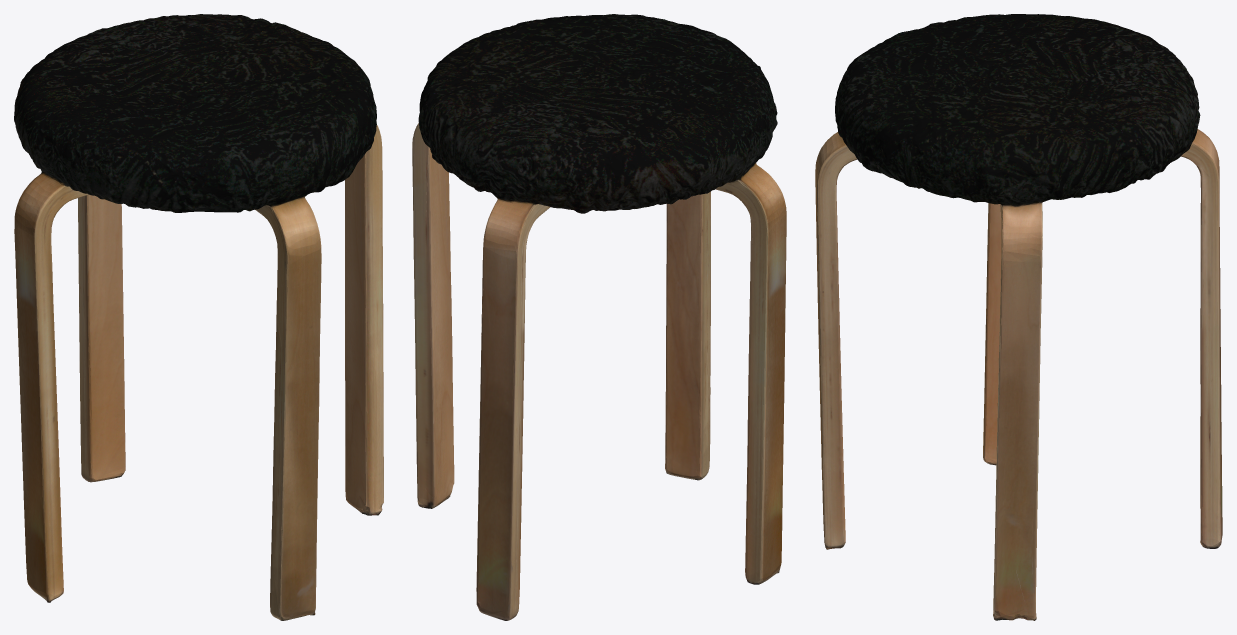
The picture shows the model from 3 angles, left to right: view 1: azimuth 30°, elevation 25°; view 2: azimuth 150°, elevation 25°; view 3: azimuth 270°, elevation 25°; orthographic projection.
Visible parts, largest first — view 1: Ring Hocker_33k_2k; view 2: Ring Hocker_33k_2k; view 3: Ring Hocker_33k_2k.
Boxes of the visible parts, x1,y1,x2,y2 form: Ring Hocker_33k_2k: (14,14,383,620); Ring Hocker_33k_2k: (412,14,786,620); Ring Hocker_33k_2k: (815,14,1222,620).
Bounding box in the file's own units: 0.391 × 0.498 × 0.392.
Materials: 1 (1 with a texture image).
